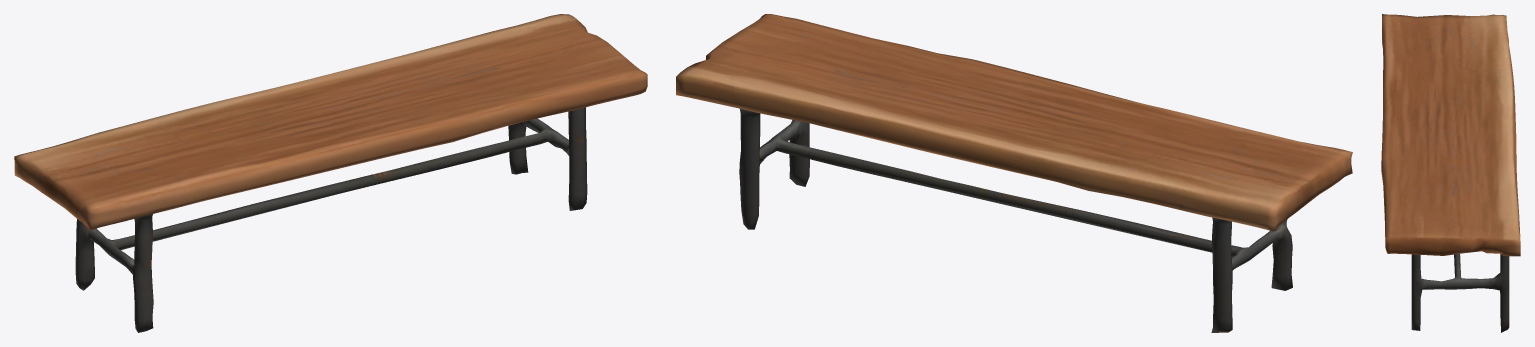
The model's file is bench.glb.
The picture shows the model from 3 angles, left to right: view 1: azimuth 30°, elevation 25°; view 2: azimuth 150°, elevation 25°; view 3: azimuth 270°, elevation 25°; orthographic projection. The views are drawn at different scales.
Visible parts, largest first — view 1: bench; view 2: bench; view 3: bench.
Boxes of the visible parts, bbox=[...] form: bench: bbox=[14, 14, 647, 332]; bench: bbox=[676, 14, 1352, 332]; bench: bbox=[1381, 14, 1520, 332].
Bounding box in the file's own units: 2.3 × 0.55 × 0.6001.
Materials: 1 (1 with a texture image).
